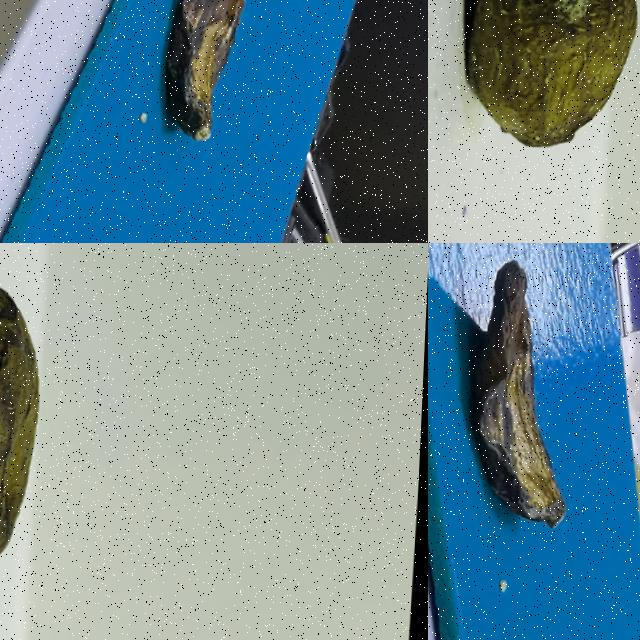Fine_cocoabeans: (442, 0, 639, 168), (0, 243, 73, 613)
Flat_cocoabeans: (431, 243, 589, 599), (133, 0, 293, 169)
